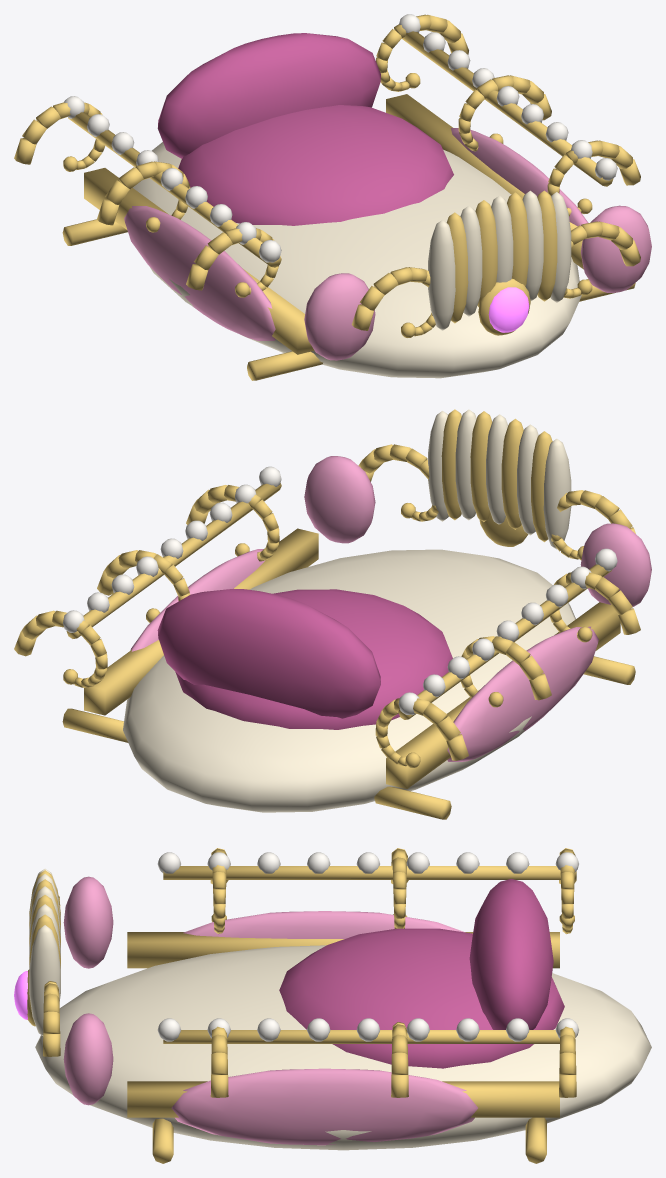
Rendered from pearococo_chariot.glb.
3 renders of one model, top to bottom at view 1: azimuth 30°, elevation 25°; view 2: azimuth 150°, elevation 25°; view 3: azimuth 270°, elevation 25°, orthographic.
Parts seen in each view (by area): view 1: Chariot_Velvet, Chariot_Porcelain, Chariot_Gold, Chariot_Rose, Chariot_Pearls, Chariot_Amethyst; view 2: Chariot_Porcelain, Chariot_Gold, Chariot_Velvet, Chariot_Rose, Chariot_Pearls; view 3: Chariot_Porcelain, Chariot_Velvet, Chariot_Rose, Chariot_Gold, Chariot_Pearls, Chariot_Amethyst.
Boxes of the visible parts, x1=… form: Chariot_Velvet: x1=157, y1=33, x2=453, y2=225; Chariot_Porcelain: x1=133, y1=142, x2=581, y2=378; Chariot_Gold: x1=14, y1=14, x2=640, y2=380; Chariot_Rose: x1=124, y1=128, x2=651, y2=360; Chariot_Pearls: x1=64, y1=14, x2=617, y2=262; Chariot_Amethyst: x1=488, y1=287, x2=529, y2=332; Chariot_Porcelain: x1=123, y1=409, x2=575, y2=812; Chariot_Gold: x1=14, y1=409, x2=640, y2=819; Chariot_Velvet: x1=157, y1=588, x2=452, y2=729; Chariot_Rose: x1=130, y1=456, x2=651, y2=761; Chariot_Pearls: x1=63, y1=466, x2=617, y2=715; Chariot_Porcelain: x1=29, y1=868, x2=651, y2=1150; Chariot_Velvet: x1=279, y1=879, x2=564, y2=1068; Chariot_Rose: x1=63, y1=876, x2=477, y2=1145; Chariot_Gold: x1=27, y1=848, x2=576, y2=1163; Chariot_Pearls: x1=157, y1=852, x2=578, y2=1041; Chariot_Amethyst: x1=14, y1=971, x2=27, y2=1019.
Bounding box in the file's own units: 4.26 × 1.95 × 5.13.
